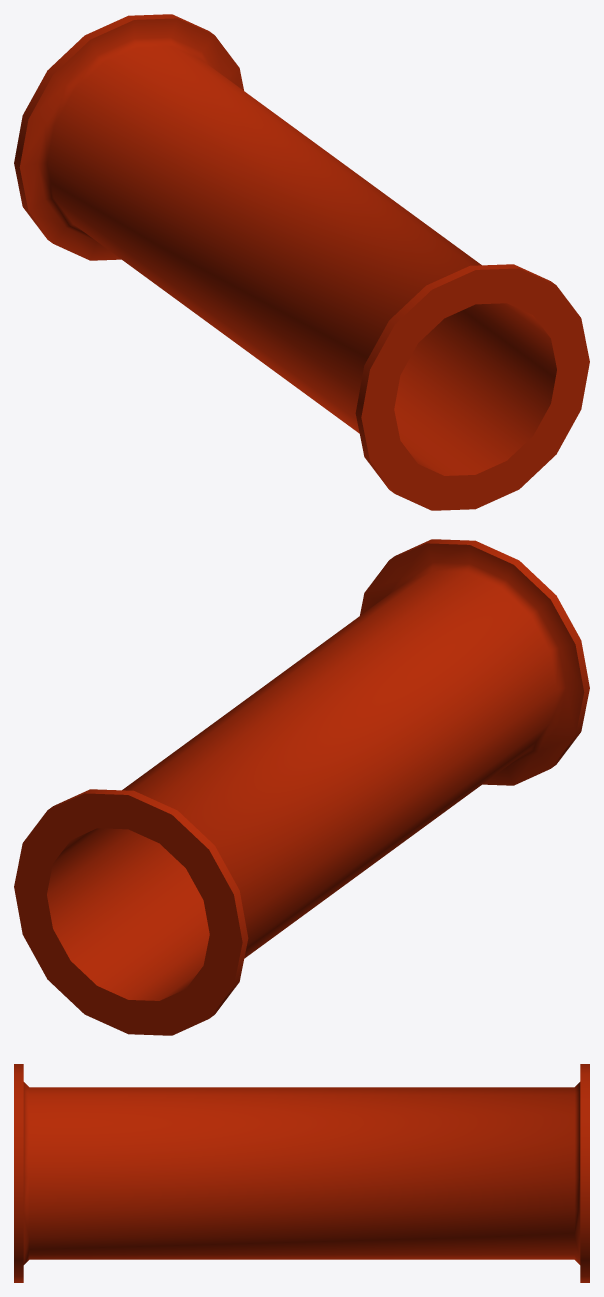
File: Pipe_01.FBX
3 renders of one model, top to bottom at view 1: azimuth 30°, elevation 25°; view 2: azimuth 150°, elevation 25°; view 3: azimuth 270°, elevation 25°, orthographic. The views are drawn at different scales.
Parts seen in each view (by area): view 1: Pipe_up1_01; view 2: Pipe_up1_01; view 3: Pipe_up1_01.
Boxes of the visible parts, x1,y1,x2,y2 form: Pipe_up1_01: (14, 14, 589, 510); Pipe_up1_01: (14, 539, 589, 1035); Pipe_up1_01: (14, 1064, 589, 1282).
Size of the model in its own units: 38 by 38 by 100.
